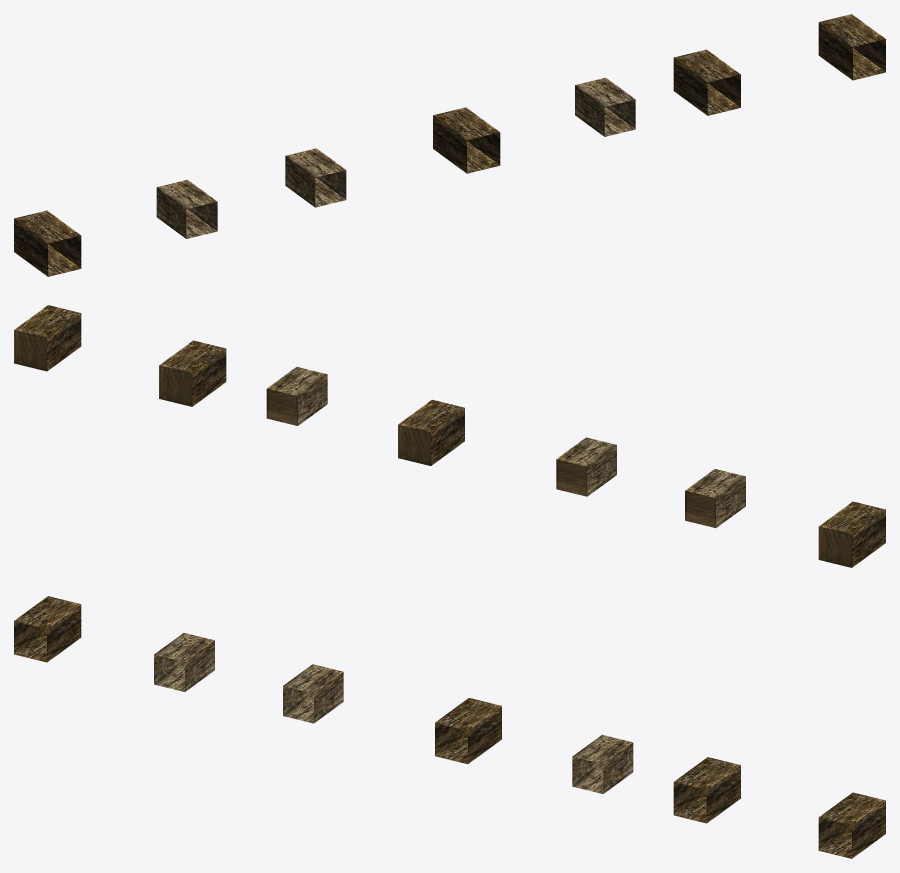
The model's file is hrt_woods2.glb.
3 views of the same model, one above another, from view 1: azimuth 30°, elevation 25°; view 2: azimuth 150°, elevation 25°; view 3: azimuth 330°, elevation 25° (orthographic).
Parts seen in each view (by area): view 1: hrt_woods2-col; view 2: hrt_woods2-col; view 3: hrt_woods2-col.
Part boxes in pixels (x1,y1,x2,y2): hrt_woods2-col: [14, 14, 885, 276]; hrt_woods2-col: [14, 305, 885, 567]; hrt_woods2-col: [14, 596, 885, 858].
Size of the model in its own units: 5.25 by 0.2008 by 0.3805.
Materials: 1 (1 with a texture image).
